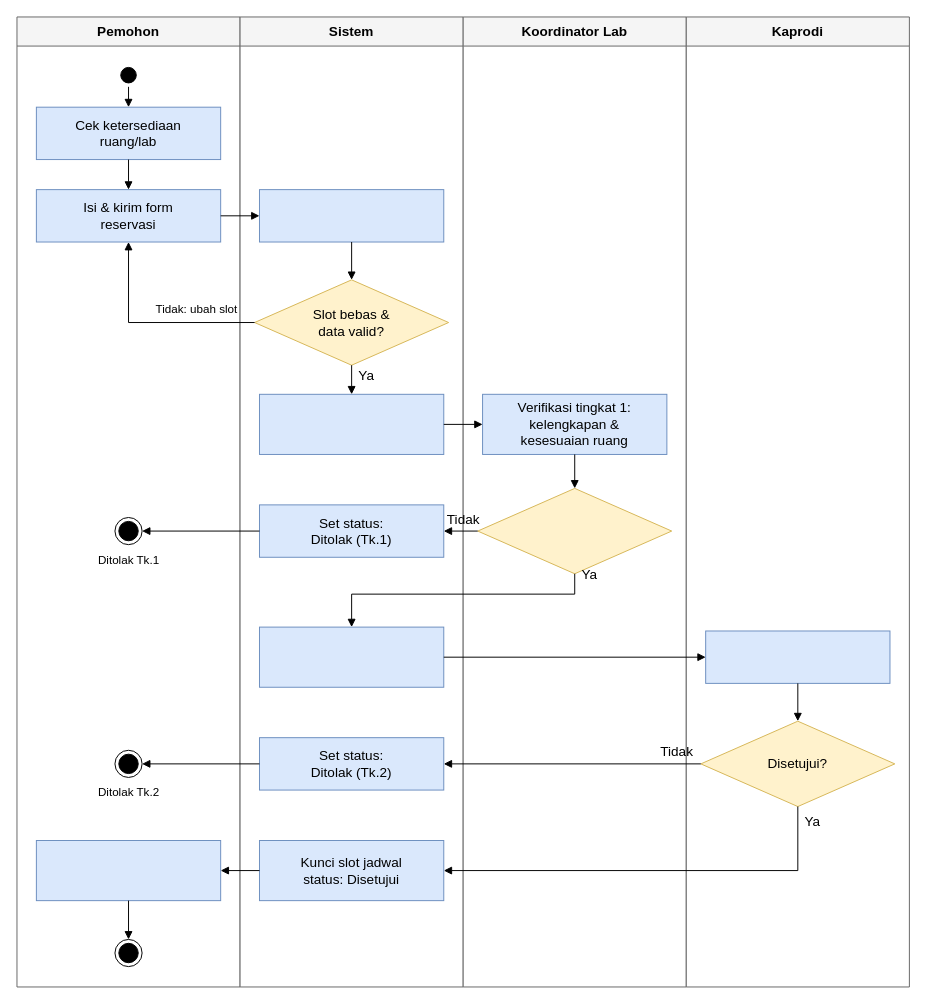
Some shapes in this 926 by 1004 pixel diagram are drawn without their labels. The shapes that lost their labels are listed below. From the top down, each one's centre as x and y in pixels, then its label:
pixel 351 215: Validasi data & cek konflik jadwal
pixel 351 423: Simpan reservasi status: Menunggu Verifikasi
pixel 574 530: Lolos verifikasi?
pixel 351 656: Set status: Menunggu Persetujuan Tk.2
pixel 797 656: Keputusan akhir Kaprodi (Tk.2)
pixel 128 870: Lihat status & gunakan ruang
